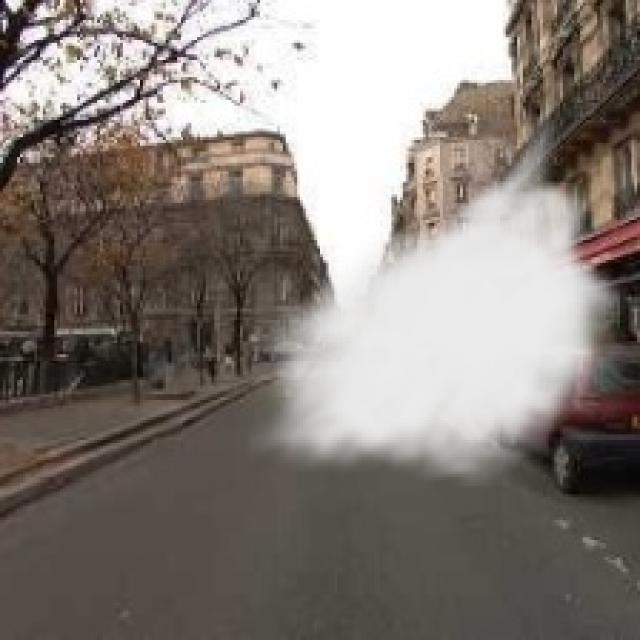Smoke: (246, 109, 634, 488)
